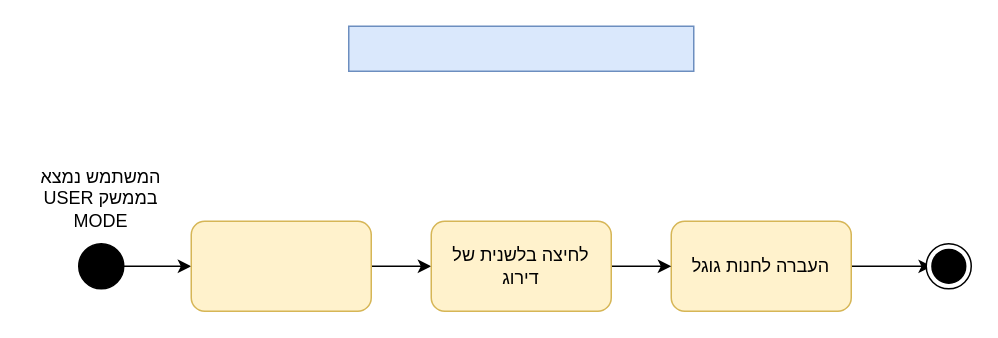
Image size: 998x338. Some labels were removed from this diagram. Here are the shapes that lost their labels. From the top down, the centre of each, then its label:
the point at 520,48: דירוג האפליקציה בחנות גוגל
the point at 280,265: גישה לטפריט
